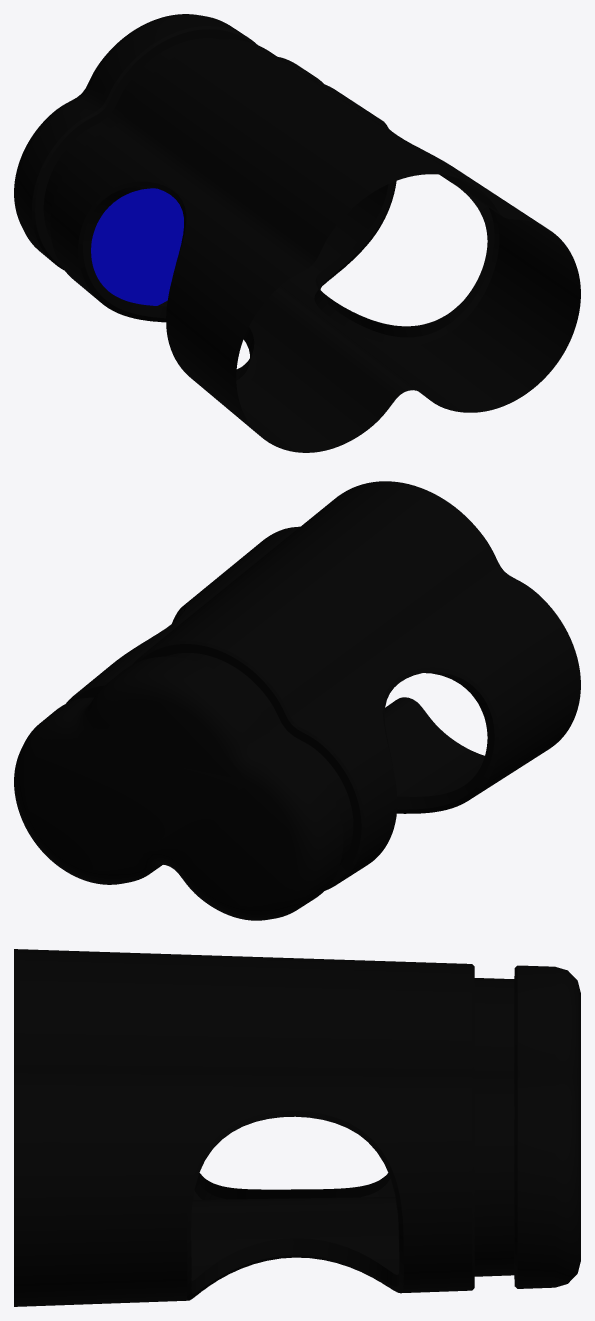
File: tool_body.fbx
3 views of the same model, one above another, from view 1: azimuth 30°, elevation 25°; view 2: azimuth 150°, elevation 25°; view 3: azimuth 270°, elevation 25° (orthographic). The views are drawn at different scales.
Visible parts, largest first — view 1: body; view 2: body; view 3: body.
Boxes of the visible parts, x1,y1,x2,y2 form: body: (14,14,580,452); body: (14,481,580,920); body: (14,949,580,1306).
Bounding box in the file's own units: 1.68 × 1.18 × 2.1.
